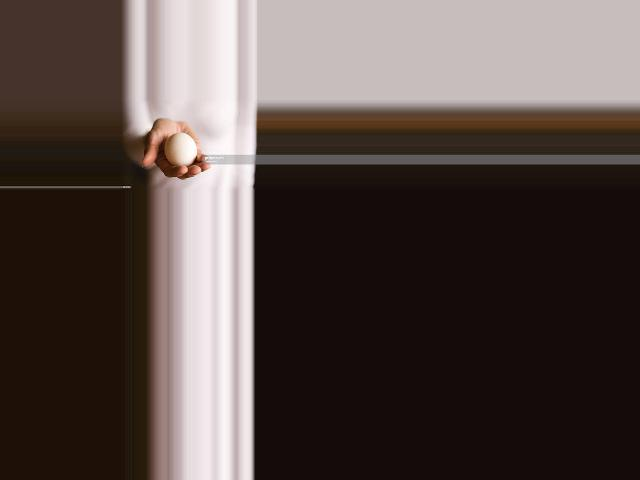egg: (164, 133, 197, 167)
